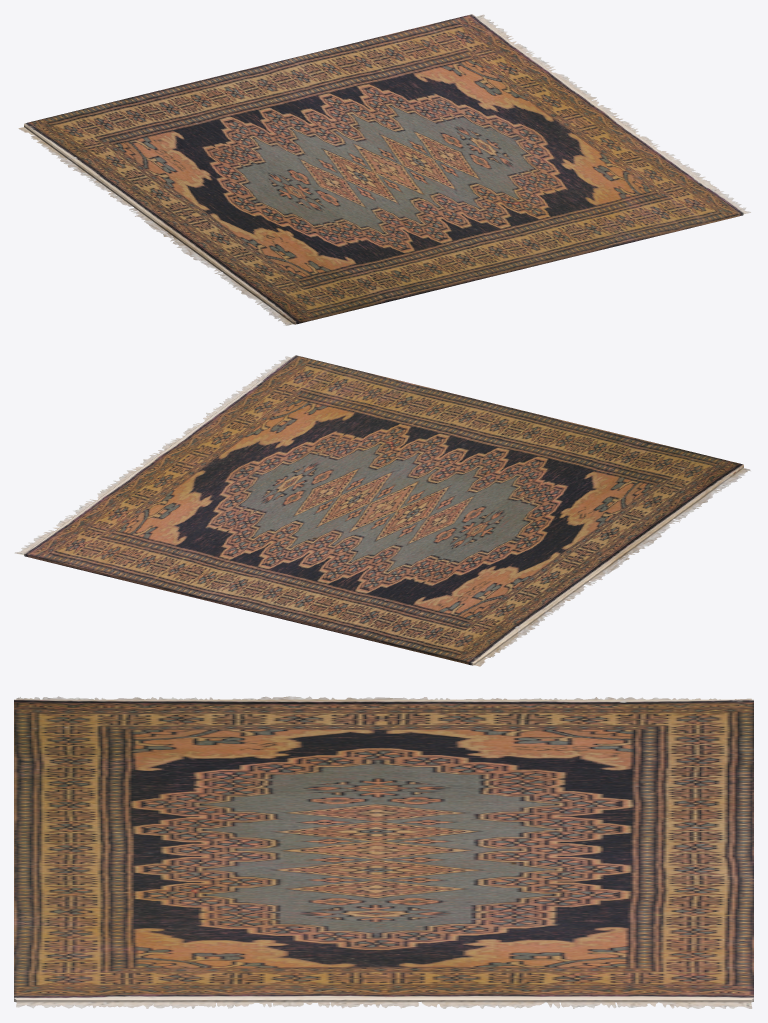
File: rug_meeting.glb
3 renders of one model, top to bottom at view 1: azimuth 30°, elevation 25°; view 2: azimuth 150°, elevation 25°; view 3: azimuth 270°, elevation 25°, orthographic. The views are drawn at different scales.
Parts seen in each view (by area): view 1: persian_rug_0_n0; view 2: persian_rug_0_n0; view 3: persian_rug_0_n0.
Part boxes in pixels (bbox=[...]): persian_rug_0_n0: bbox=[18, 14, 750, 325]; persian_rug_0_n0: bbox=[14, 355, 750, 666]; persian_rug_0_n0: bbox=[14, 696, 753, 1008].
Size of the model in its own units: 3.8 by 0.02 by 3.8.
Materials: 1 (1 with a texture image).
